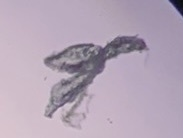microplastic: (39, 33, 152, 130)
